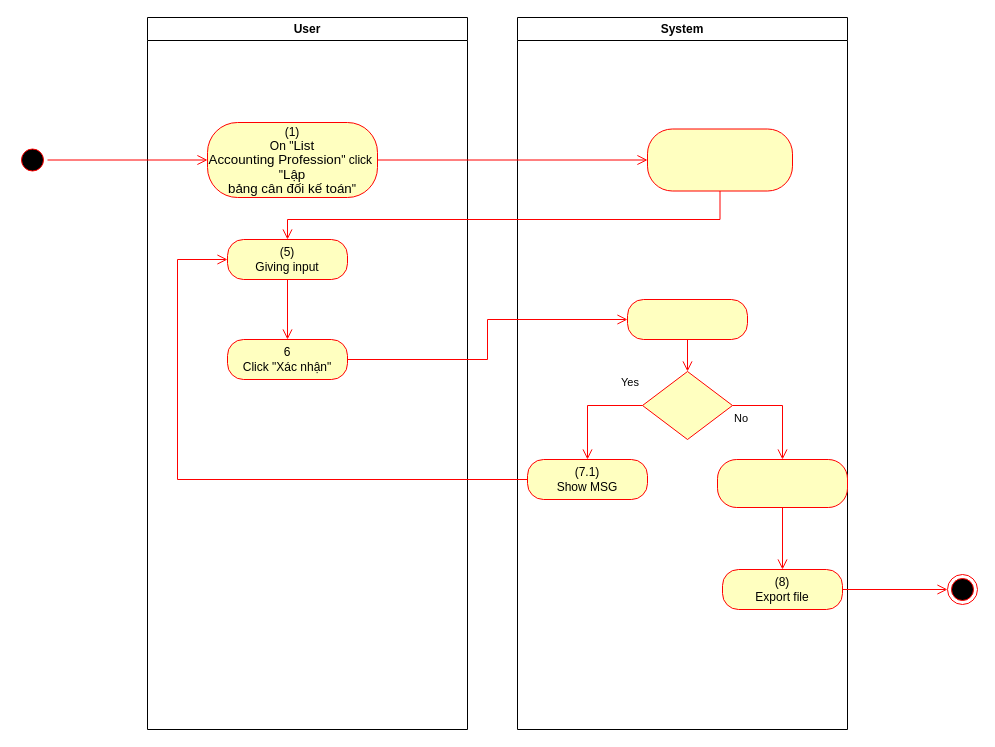
Image size: 995x747. Some labels were removed from this diagram. Each missing label, with the centre of its shape:
(2) Load " Choose time frame form " screen: (719,159)
(7) Validate: (687,319)
(7.2) Create "Accounting balance sheet": (782,483)
